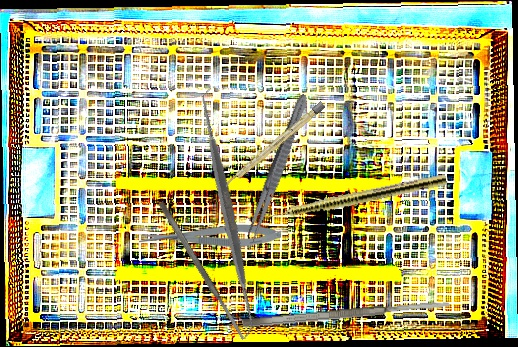Dressing Forceps: (243, 92, 312, 245)
Handpiece: (253, 170, 448, 227)
Micro Scissor: (139, 224, 281, 247)
Scalpel Handle: (223, 101, 326, 189)
Spatula Surgical: (100, 86, 355, 340), (157, 200, 247, 342), (241, 298, 451, 330)
